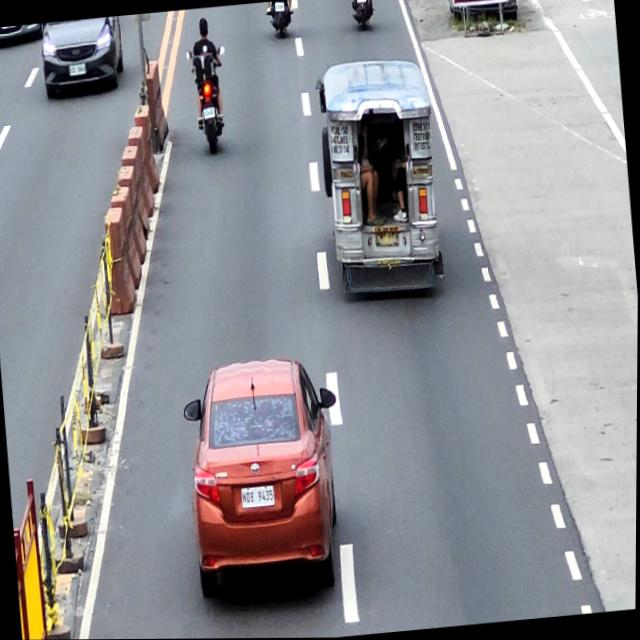Car: (179, 352, 353, 602), (37, 15, 127, 96)
Jeep: (313, 55, 448, 300)
License-Plate: (241, 487, 276, 509), (375, 231, 400, 249), (69, 63, 87, 76), (202, 107, 216, 121), (274, 2, 284, 12), (356, 0, 366, 2)
Motorcycle: (186, 46, 233, 156), (266, 0, 293, 42), (350, 0, 376, 33)
